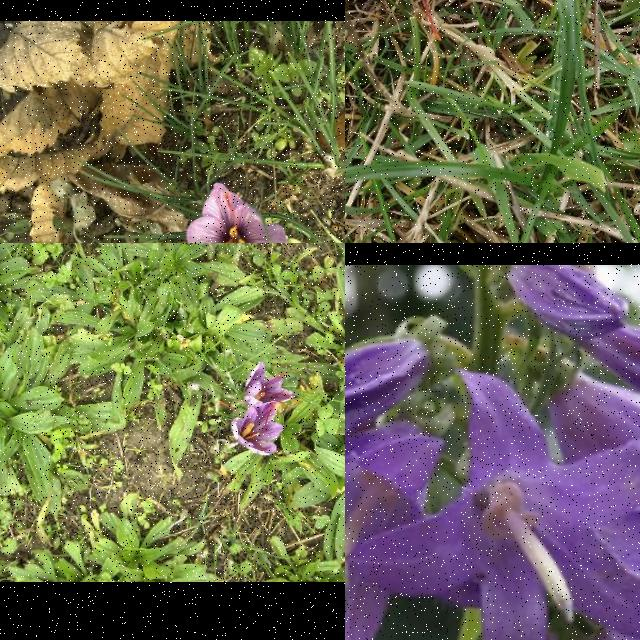flower: (186, 183, 288, 243), (378, 0, 517, 41), (231, 402, 283, 456), (244, 362, 296, 406)
